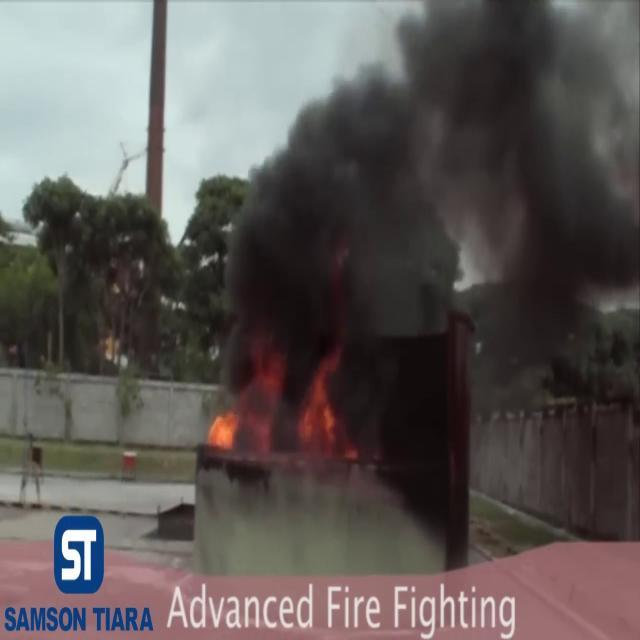Fire: (299, 346, 345, 451), (204, 398, 244, 454)
Smoke: (220, 0, 640, 428)
